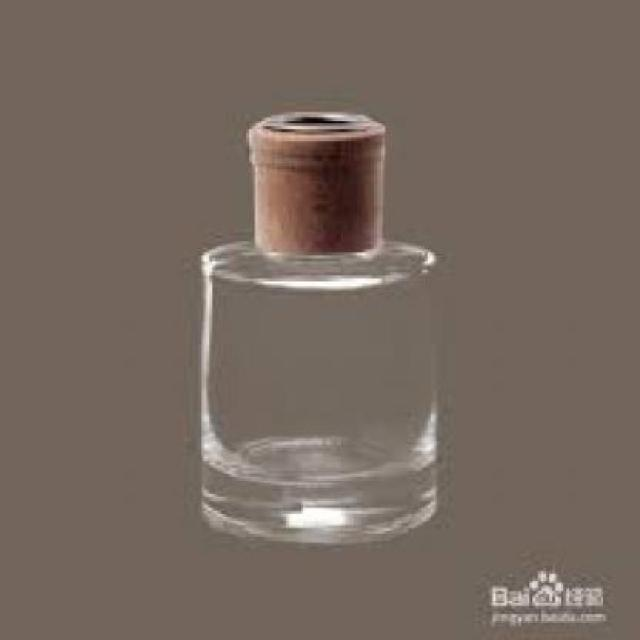kaca: (198, 235, 438, 540)
